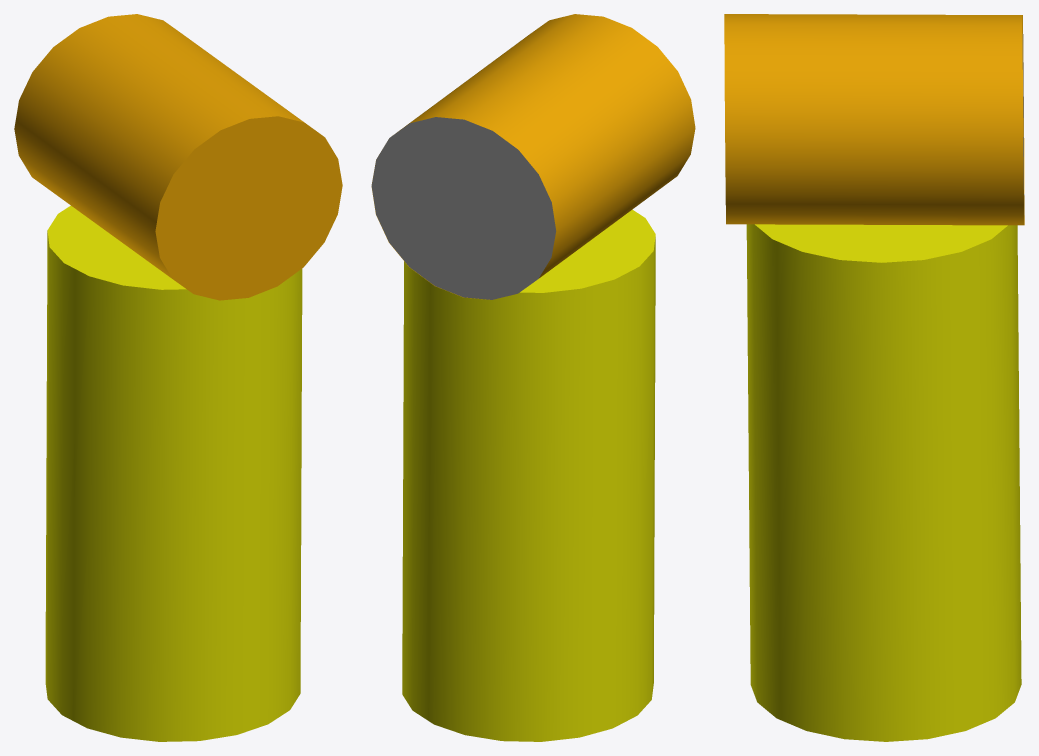
3 renders of one model, left to right at view 1: azimuth 30°, elevation 25°; view 2: azimuth 150°, elevation 25°; view 3: azimuth 270°, elevation 25°, orthographic. The views are drawn at different scales.
Visible parts, largest first — view 1: pCylinder2, polySurface1; view 2: pCylinder2, polySurface1, picutre; view 3: pCylinder2, polySurface1.
Part boxes in pixels (box(x1,y1,x2,y2)): pCylinder2: box(45, 205, 302, 741); polySurface1: box(14, 14, 342, 300); pCylinder2: box(402, 209, 655, 741); polySurface1: box(371, 14, 695, 299); picutre: box(371, 117, 556, 299); pCylinder2: box(746, 224, 1021, 741); polySurface1: box(724, 14, 1024, 225).
Size of the model in its own units: 4.23 by 11.37 by 4.68.
